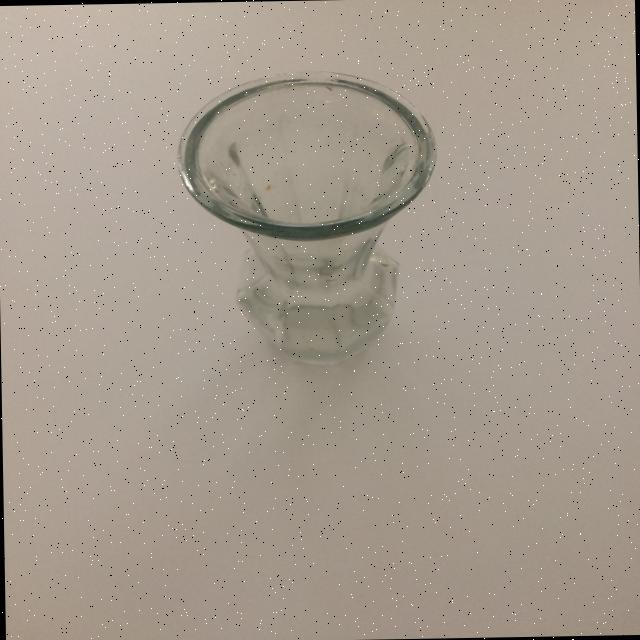glass: (174, 65, 444, 367)
